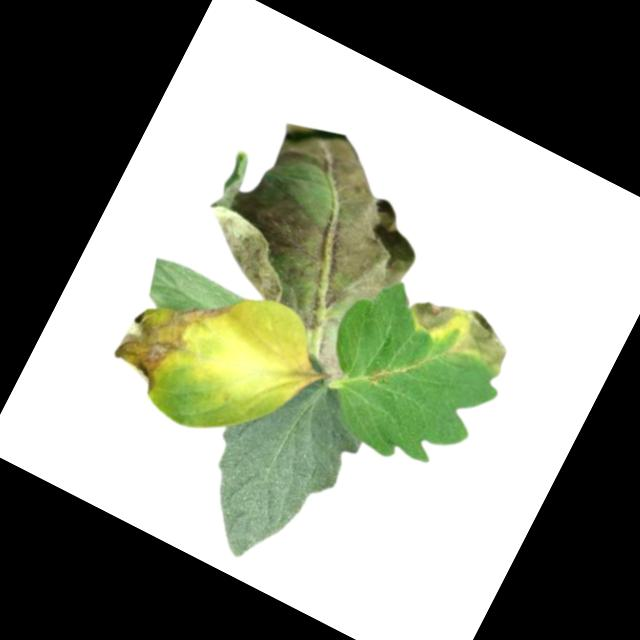Late_blight: (180, 95, 451, 357), (103, 258, 239, 410), (397, 283, 520, 381), (304, 335, 356, 386), (362, 358, 393, 391)
